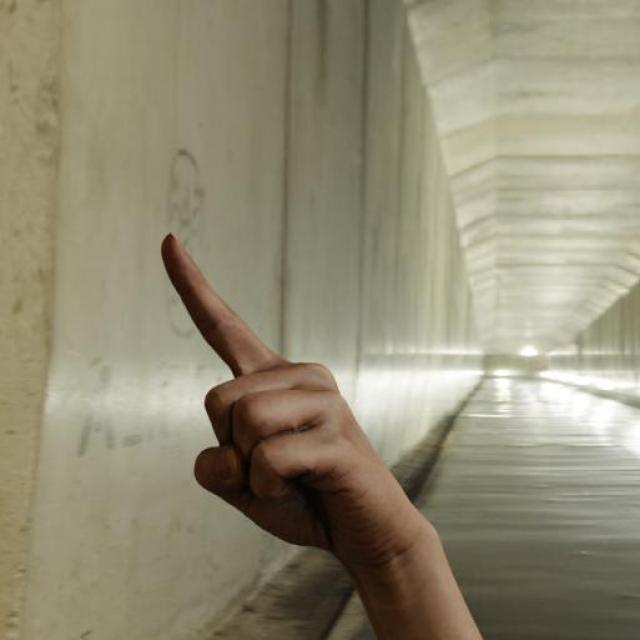Z: (141, 210, 465, 600)
